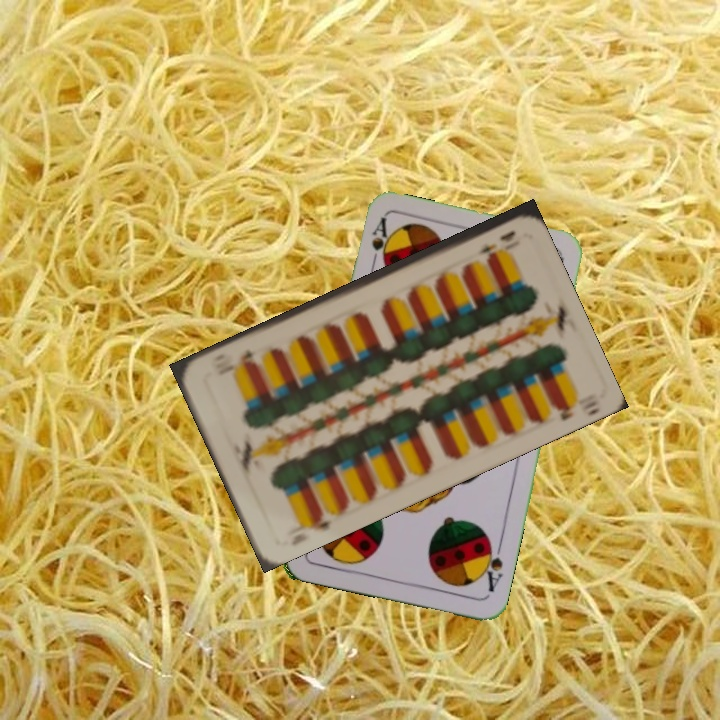E10: (473, 226, 519, 258), (302, 507, 334, 533)
SA: (477, 536, 506, 595), (367, 214, 391, 273)
